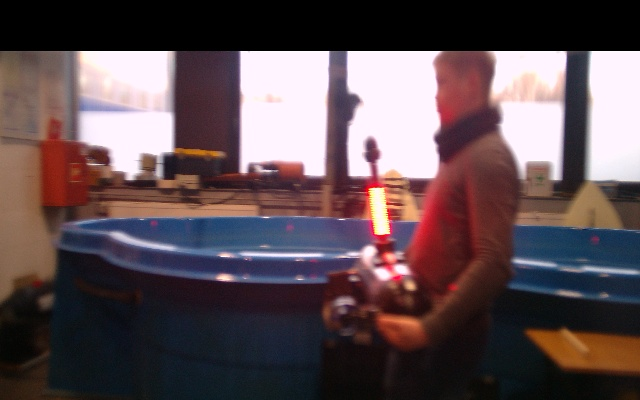red: (369, 185, 391, 238)
